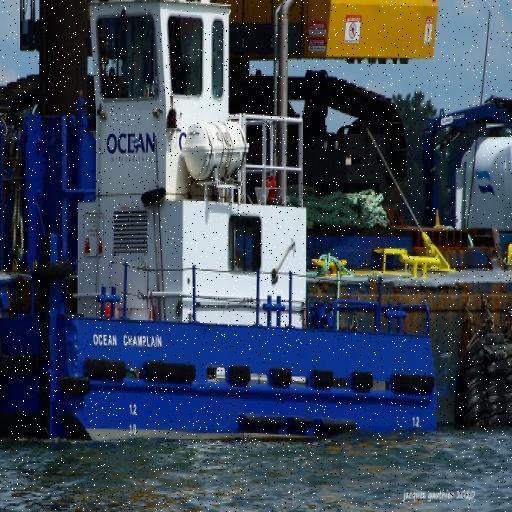tugboat: (1, 1, 445, 459)
